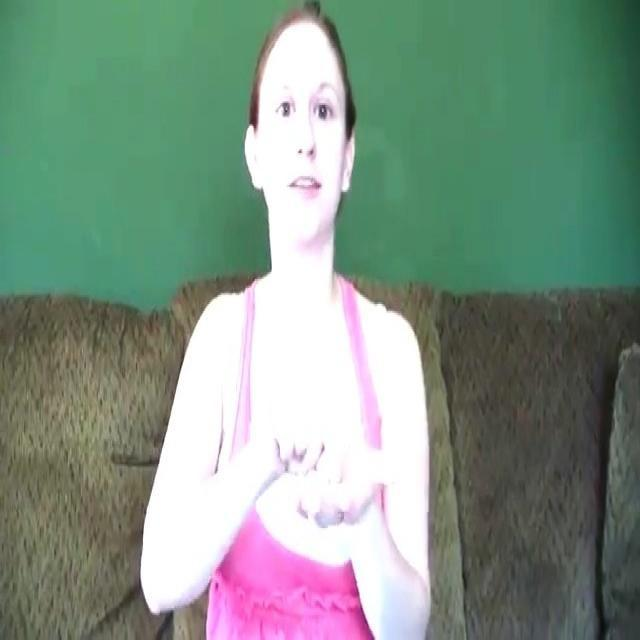chicken: (231, 364, 407, 567)
